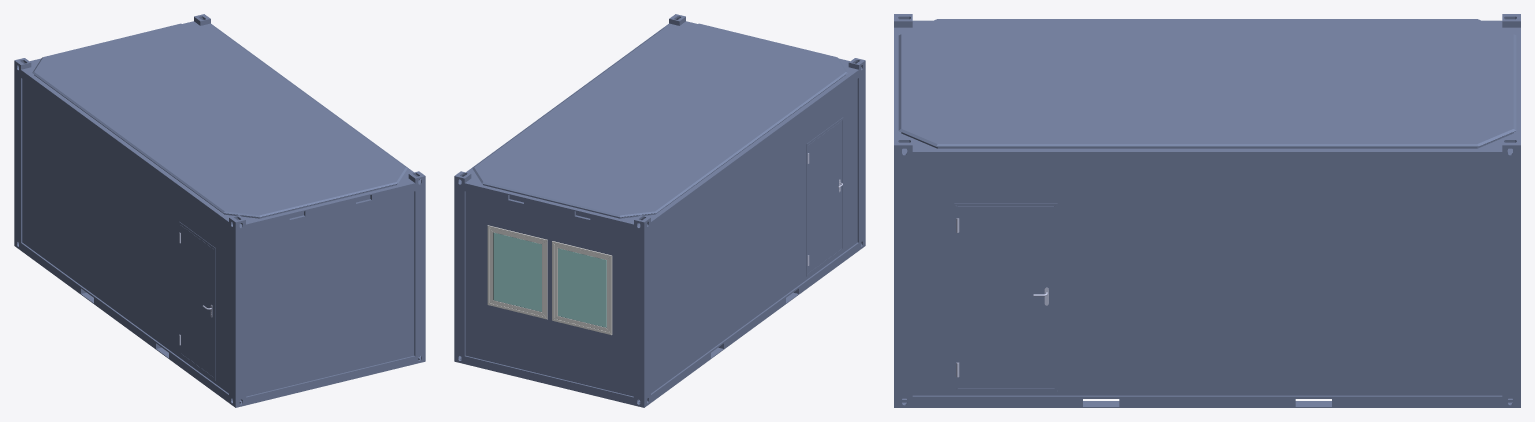
The model's file is Büro längsseitig HC 2800 BC 3000.obj.
3 renders of one model, left to right at view 1: azimuth 30°, elevation 25°; view 2: azimuth 150°, elevation 25°; view 3: azimuth 270°, elevation 25°, orthographic. The views are drawn at different scales.
Visible parts, largest first — view 1: |Test_buerolängs~0|Root|Test-Büro2~0-1|color, |Test_buerolängs~0|Root|Cont-Tür~0-3|color-2; view 2: |Test_buerolängs~0|Root|Test-Büro2~0-1|color, |Test_buerolängs~0|Root|Cont-Tür~0-3|color-2, |Test_buerolängs~0|Root|Cont-Fenster~0-1|color-4, |Test_buerolängs~0|Root|Cont-Fenster~0-3|color-4, |Test_buerolängs~0|Root|Cont-Fenster~0-3|color-5, |Test_buerolängs~0|Root|Cont-Fenster~0-1|color-5; view 3: |Test_buerolängs~0|Root|Test-Büro2~0-1|color, |Test_buerolängs~0|Root|Cont-Tür~0-2|color-2.
Part boxes in pixels (left/top/right/bottom): |Test_buerolängs~0|Root|Test-Büro2~0-1|color: left=14, top=14, right=425, bottom=407; |Test_buerolängs~0|Root|Cont-Tür~0-3|color-2: left=179, top=221, right=215, bottom=380; |Test_buerolängs~0|Root|Test-Büro2~0-1|color: left=454, top=14, right=865, bottom=407; |Test_buerolängs~0|Root|Cont-Tür~0-3|color-2: left=806, top=117, right=843, bottom=276; |Test_buerolängs~0|Root|Cont-Fenster~0-1|color-4: left=493, top=232, right=541, bottom=311; |Test_buerolängs~0|Root|Cont-Fenster~0-3|color-4: left=558, top=248, right=606, bottom=327; |Test_buerolängs~0|Root|Cont-Fenster~0-3|color-5: left=552, top=241, right=612, bottom=335; |Test_buerolängs~0|Root|Cont-Fenster~0-1|color-5: left=487, top=225, right=547, bottom=319; |Test_buerolängs~0|Root|Test-Büro2~0-1|color: left=894, top=14, right=1520, bottom=407; |Test_buerolängs~0|Root|Cont-Tür~0-2|color-2: left=954, top=203, right=1057, bottom=391.
Bounding box in the file's own units: 3.11 × 2.8 × 6.05.
